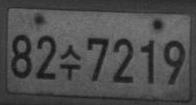1: (138, 40, 160, 84)
2: (112, 37, 134, 83), (35, 34, 56, 79)
7: (86, 36, 109, 81)
8: (10, 33, 33, 78)
9: (162, 39, 186, 84)
수: (59, 44, 82, 81)
